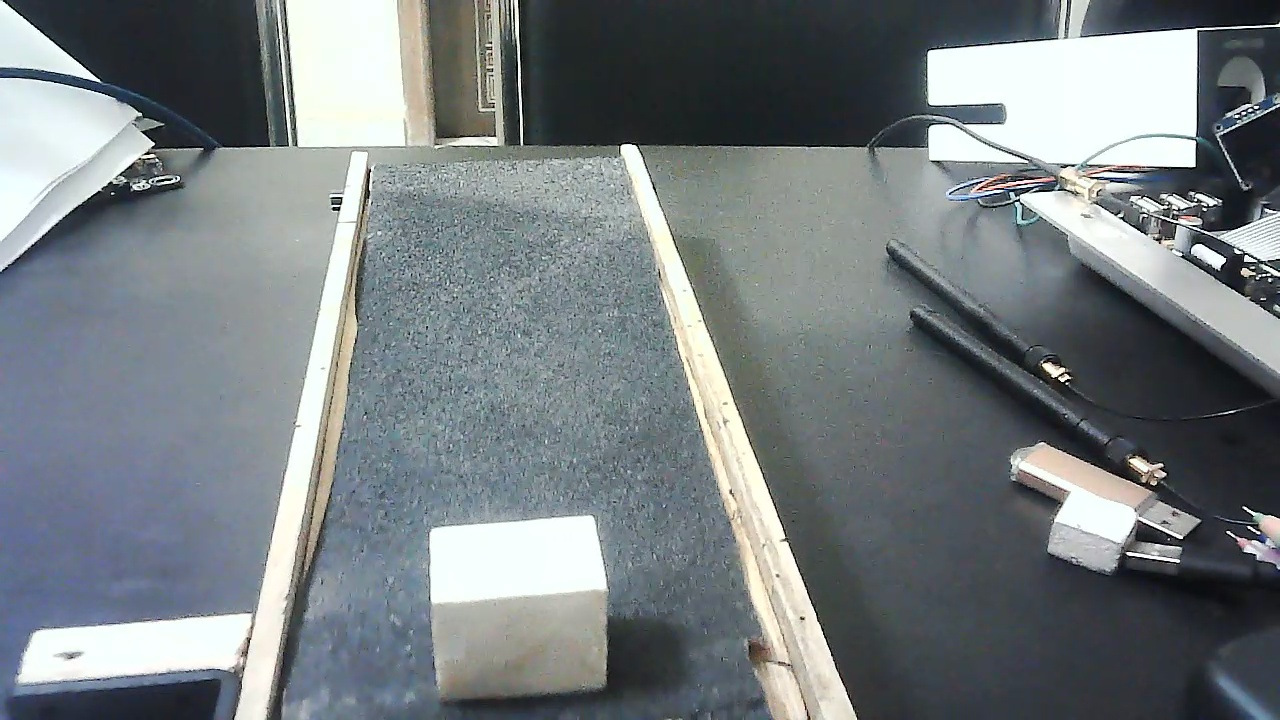Medium: (429, 515, 611, 697)
